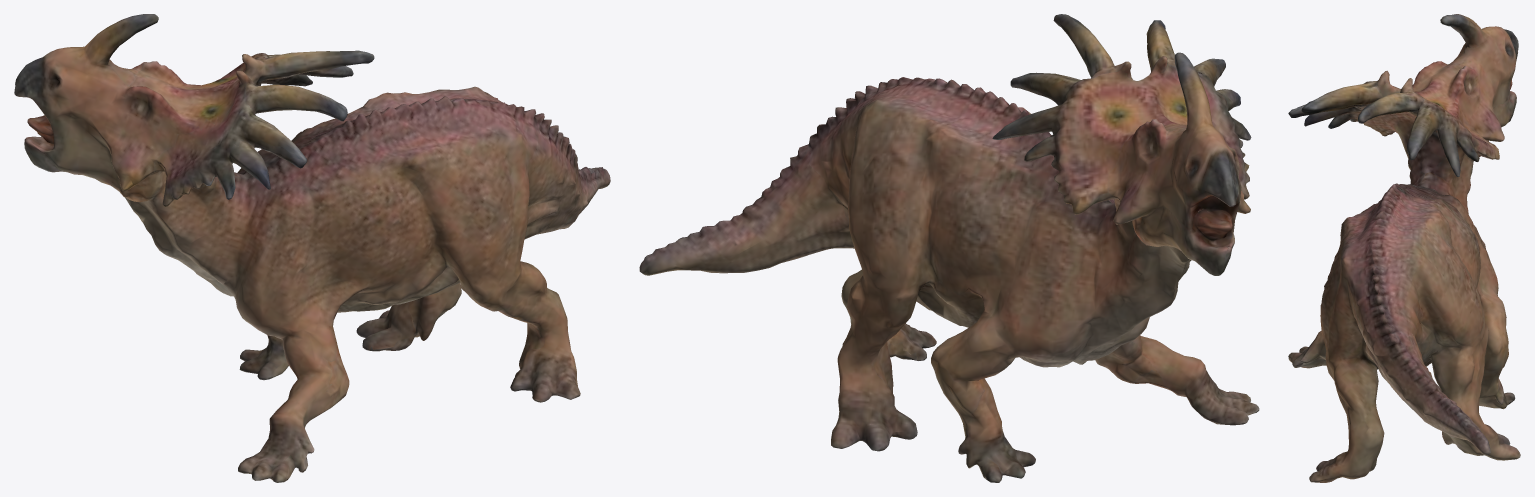
Rendered from google-styracosaurus.glb.
The picture shows the model from 3 angles, left to right: view 1: azimuth 30°, elevation 25°; view 2: azimuth 150°, elevation 25°; view 3: azimuth 270°, elevation 25°; orthographic projection. The views are drawn at different scales.
Parts seen in each view (by area): view 1: Node; view 2: Node; view 3: Node.
Boxes of the visible parts, left/top/right/bottom form: Node: left=14, top=14, right=610, bottom=482; Node: left=639, top=14, right=1259, bottom=482; Node: left=1288, top=14, right=1520, bottom=482.
Bounding box in the file's own units: 0.1368 × 0.0927 × 0.0587.
Materials: 1 (1 with a texture image).
